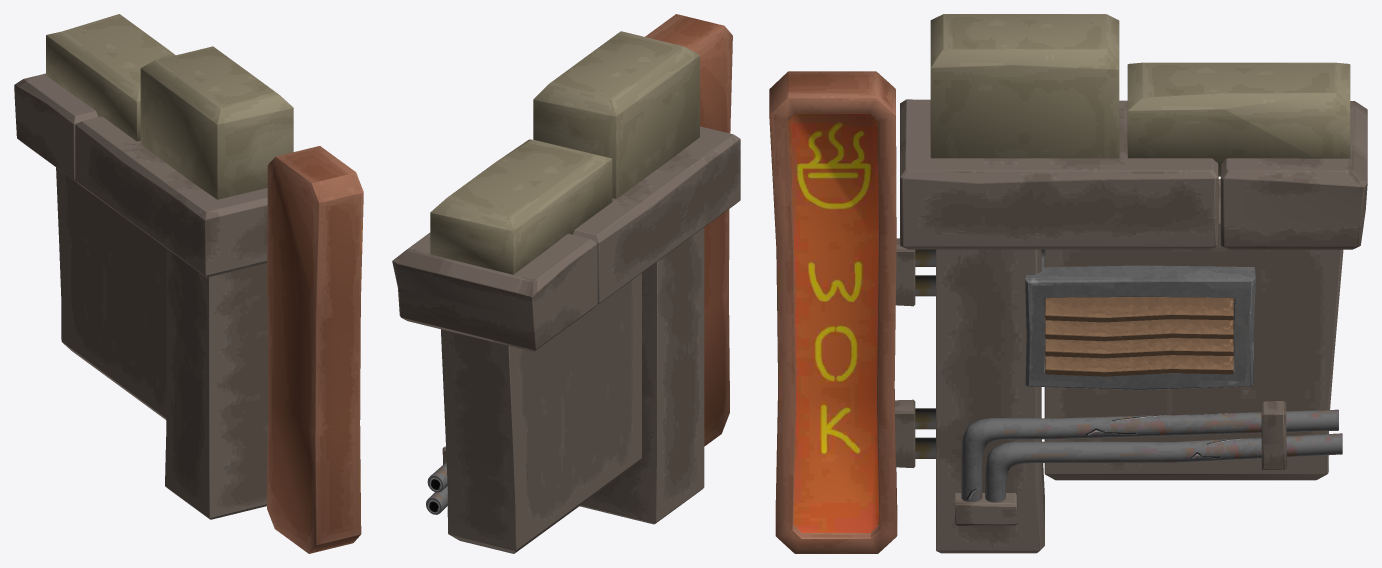
The model's file is texture paint practice.fbx.
3 renders of one model, left to right at view 1: azimuth 30°, elevation 25°; view 2: azimuth 150°, elevation 25°; view 3: azimuth 270°, elevation 25°, orthographic. The views are drawn at different scales.
Parts seen in each view (by area): view 1: Cube.016, Cube.005, Cube.004, Cube, Cube.002, Cube.001, Cube.003; view 2: Cube.004, Cube.005, Cube, Cube.001, Cube.003, Cube.002, Cube.016; view 3: Cube.016, Cube.002, Cube.004, Cube, Cube.005, Cube.001, Cube.003, Cube.007, Cylinder, Cylinder.001, Cube.008, Cube.009 (+6 smaller).
Part boxes in pixels (x1,y1,x2,y2): Cube.016: [267, 146, 363, 553]; Cube.005: [165, 248, 268, 519]; Cube.004: [56, 167, 166, 419]; Cube: [140, 46, 293, 199]; Cube.002: [75, 116, 267, 277]; Cube.001: [46, 14, 175, 141]; Cube.003: [14, 73, 97, 181]; Cube.004: [441, 273, 641, 553]; Cube.005: [580, 227, 704, 524]; Cube: [533, 31, 699, 198]; Cube.001: [430, 139, 612, 274]; Cube.003: [392, 232, 597, 351]; Cube.002: [573, 126, 740, 304]; Cube.016: [645, 14, 732, 446]; Cube.016: [769, 71, 897, 553]; Cube.002: [900, 99, 1218, 249]; Cube.004: [1044, 179, 1343, 480]; Cube: [930, 14, 1119, 158]; Cube.005: [936, 249, 1044, 553]; Cube.001: [1127, 62, 1350, 176]; Cube.003: [1220, 101, 1367, 249]; Cube.007: [1025, 249, 1255, 390]; Cylinder: [961, 409, 1338, 501]; Cylinder.001: [985, 433, 1342, 502]; Cube.008: [1045, 297, 1233, 322]; Cube.009: [1045, 319, 1233, 341].
Size of the model in its own units: 33.35 by 99.57 by 108.
8 materials, 8 textured.
